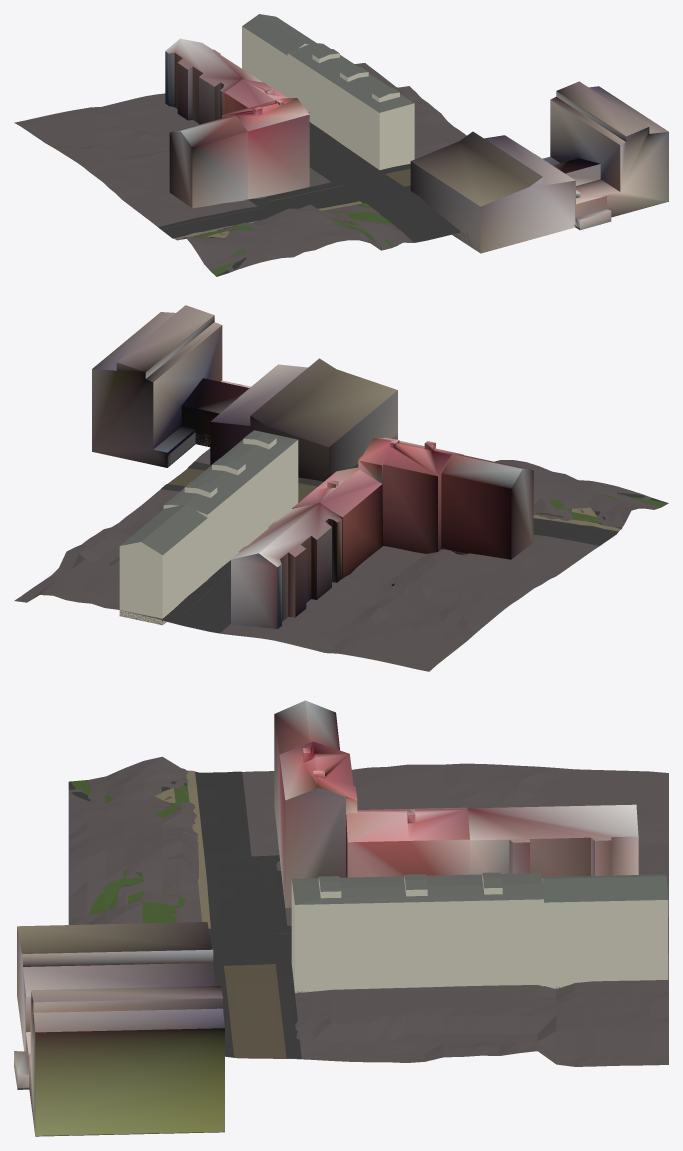
3 renders of one model, top to bottom at view 1: azimuth 30°, elevation 25°; view 2: azimuth 150°, elevation 25°; view 3: azimuth 270°, elevation 25°, orthographic. The views are drawn at different scales.
Parts seen in each view (by area): view 1: c_m03_m16; view 2: c_m03_m16; view 3: c_m03_m16.
Part boxes in pixels (x1=…): c_m03_m16: x1=14, y1=14, x2=668, y2=276; c_m03_m16: x1=14, y1=305, x2=668, y2=671; c_m03_m16: x1=14, y1=700, x2=668, y2=1136.
Size of the model in its own units: 161 by 44.18 by 140.
